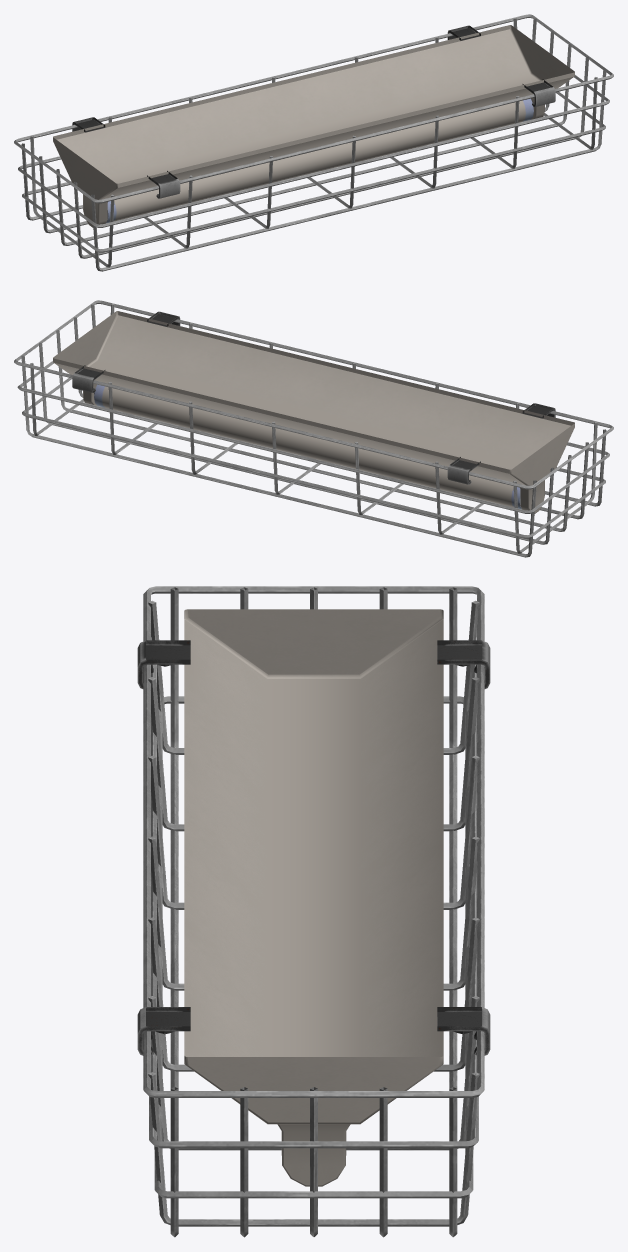
File: lamp.obj
The picture shows the model from 3 angles, top to bottom: view 1: azimuth 30°, elevation 25°; view 2: azimuth 150°, elevation 25°; view 3: azimuth 270°, elevation 25°; orthographic projection. The views are drawn at different scales.
Visible parts, largest first — view 1: 01__0; view 2: 01__0; view 3: 01__0.
Part boxes in pixels (x1,y1,x2,y2): 01__0: (14, 14, 613, 271); 01__0: (14, 300, 613, 557); 01__0: (137, 586, 490, 1237).
Bounding box in the file's own units: 1.06 × 0.1582 × 0.3099.
1 material, 1 textured.
